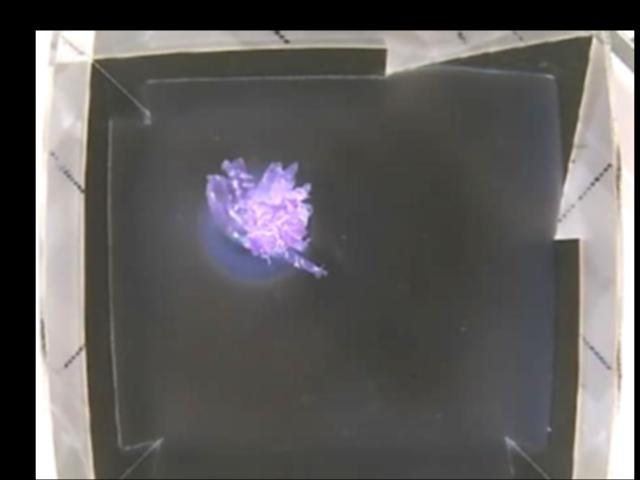Mooli: (205, 156, 328, 283)
